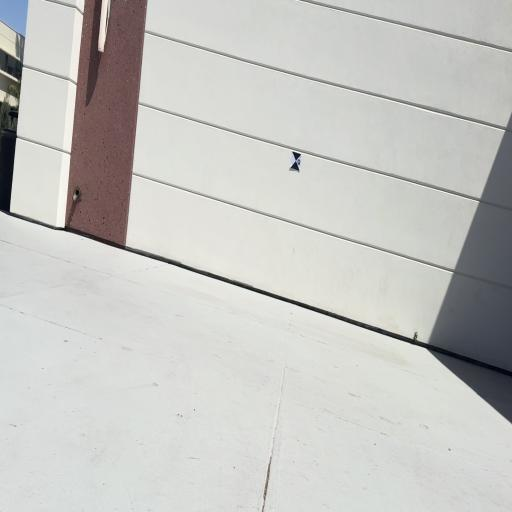target0: (290, 151, 302, 172)
